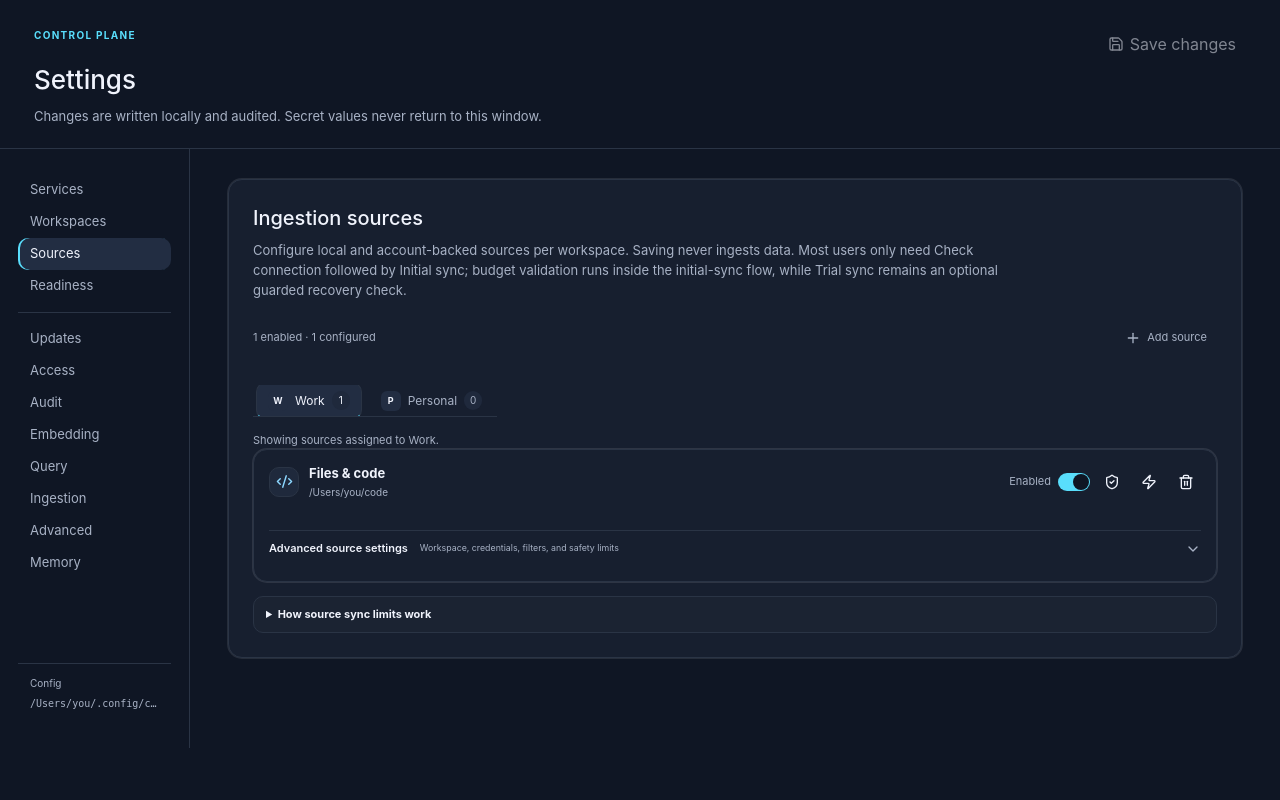
Test: shadcn settings compose generated source controls
Step 1. Click the button "Advanced source settings" → (338, 548), box 269,531 -> 1201,567
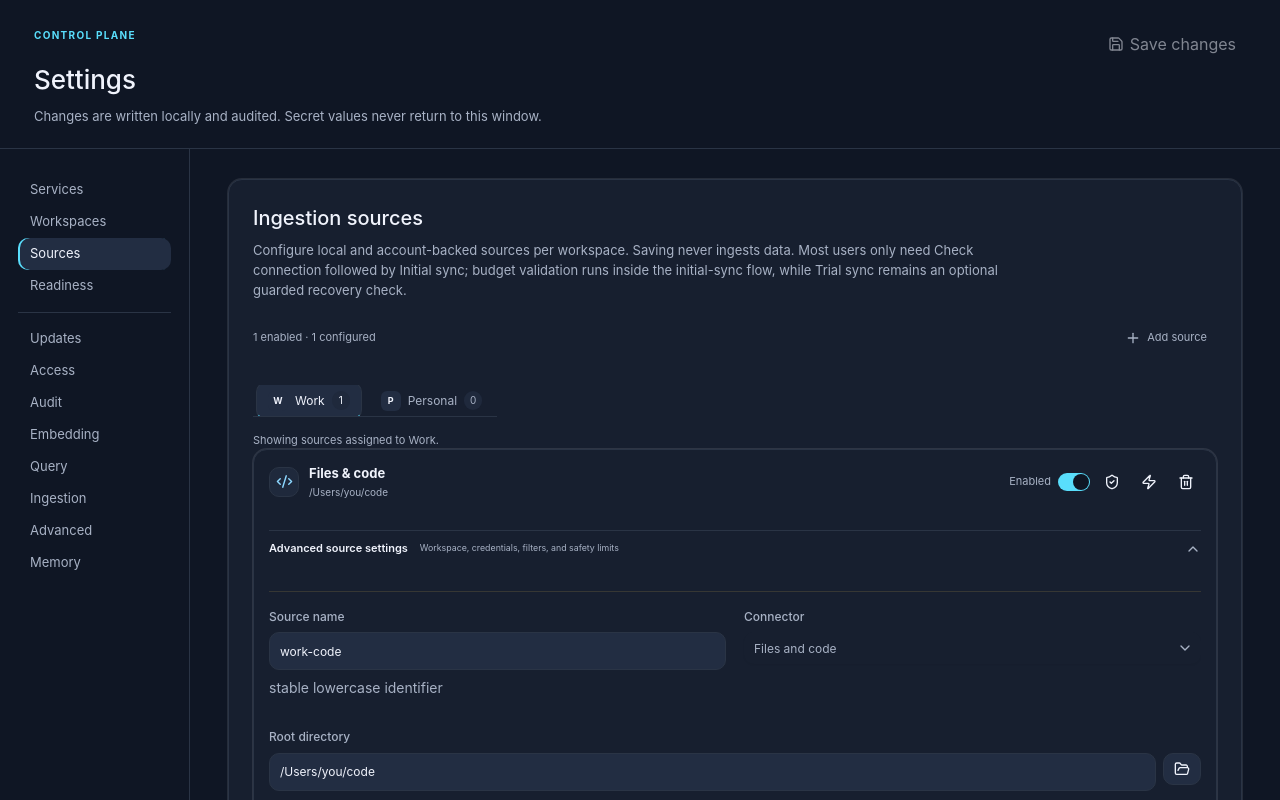
Expected: the switch named "Enable work-code" is shown, 1058,472 -> 1090,491
Expected: the field labelled "Source name" is shown, 269,632 -> 726,670
Expected: the dropdown labelled "Files and code ▼" is shown, 744,632 -> 1201,664
